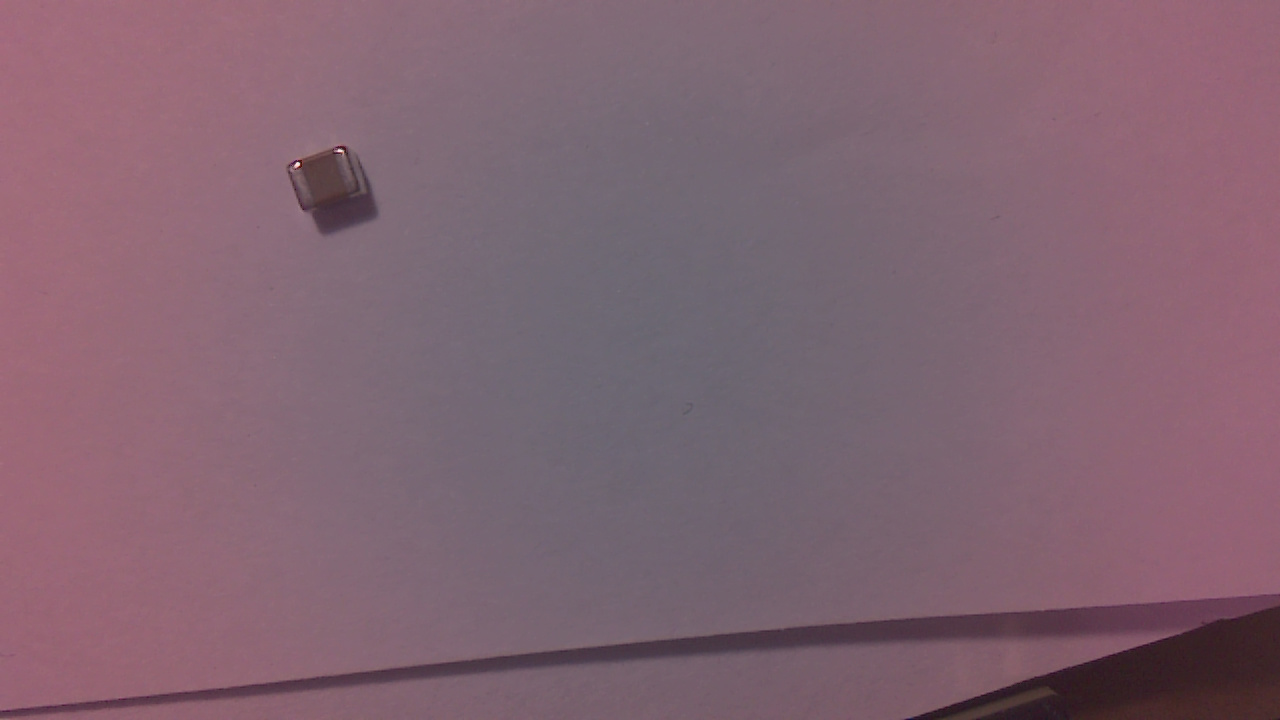Condensator: (289, 148, 377, 225)
